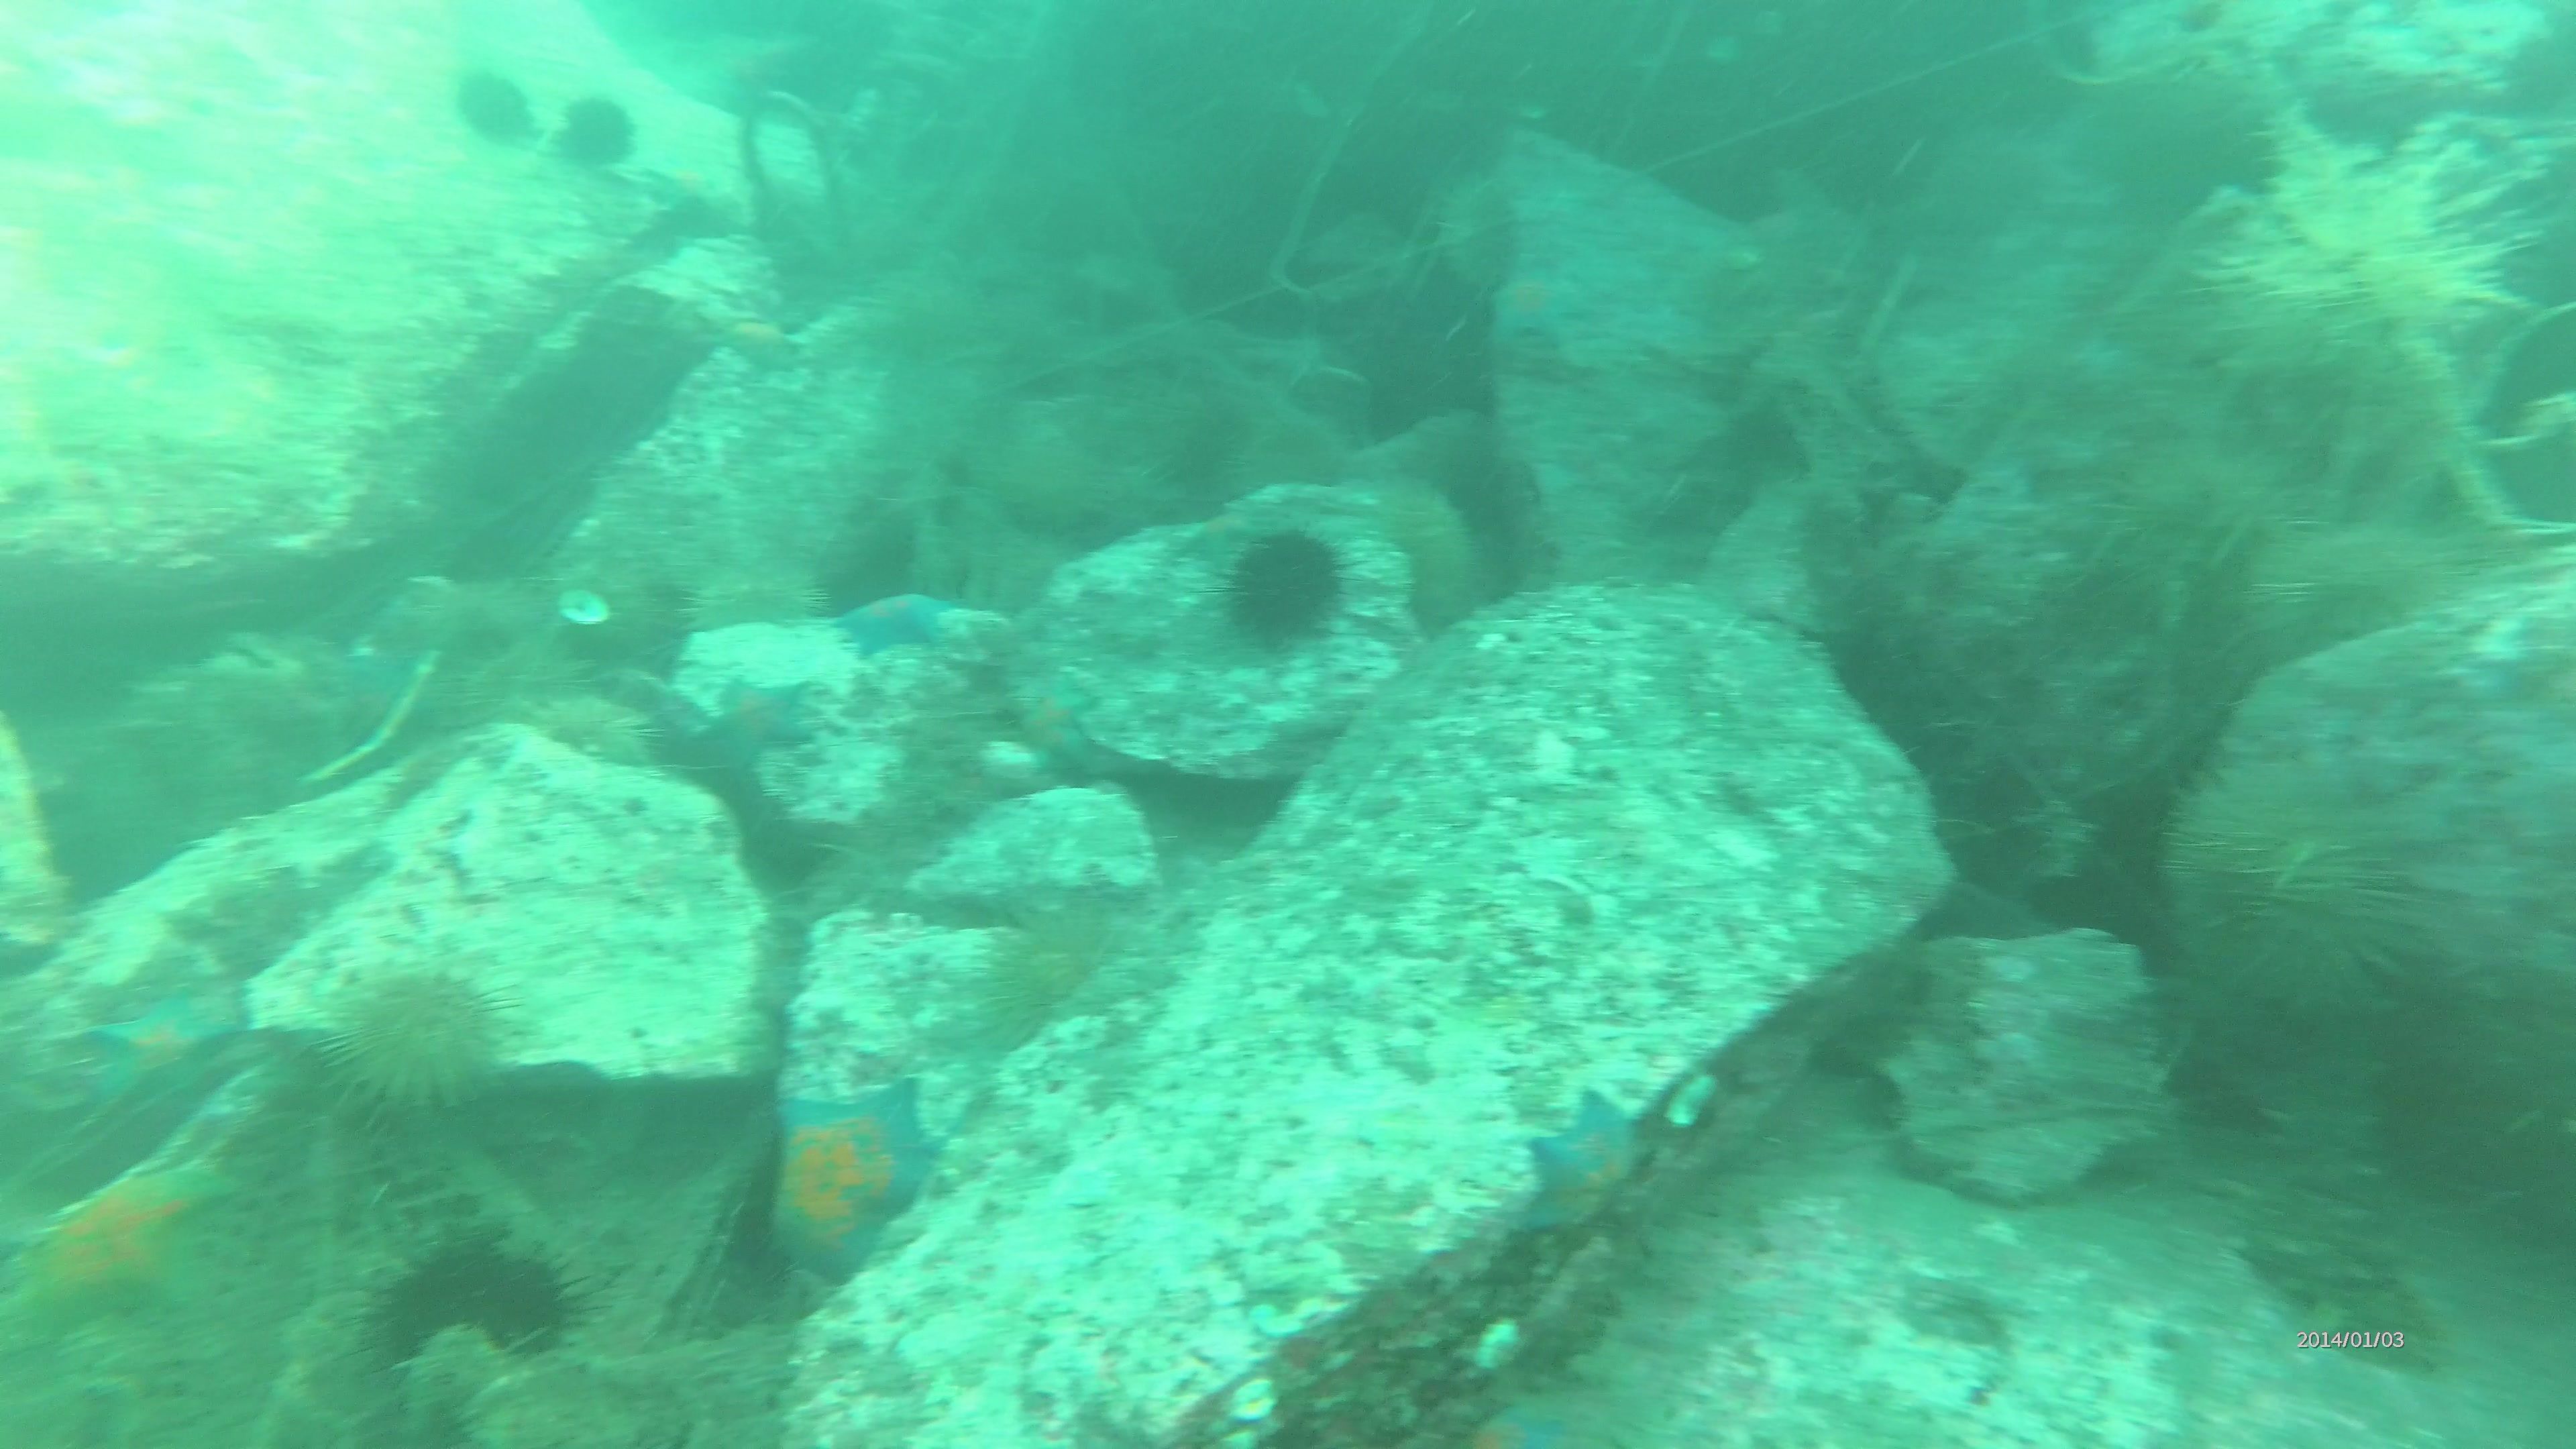echinus: (361, 1210, 600, 1361), (327, 964, 540, 1131), (1196, 513, 1375, 665), (964, 893, 1129, 1024), (527, 683, 672, 784), (688, 556, 835, 637), (448, 55, 541, 159), (548, 88, 648, 179)
starfish: (764, 1070, 939, 1284), (58, 966, 239, 1132), (28, 1164, 230, 1304), (1523, 1085, 1652, 1244)
